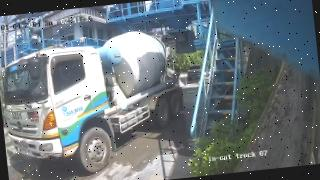cement_mixer_truck: (0, 32, 182, 173)
